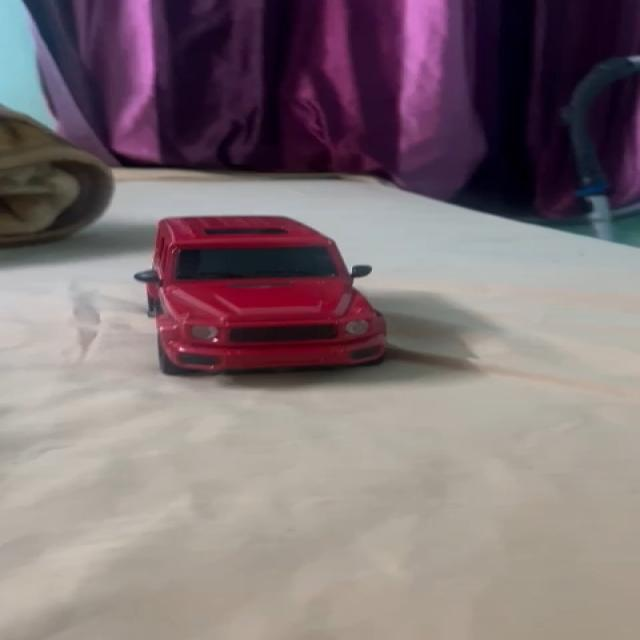light_vehicle: (137, 210, 394, 372)
